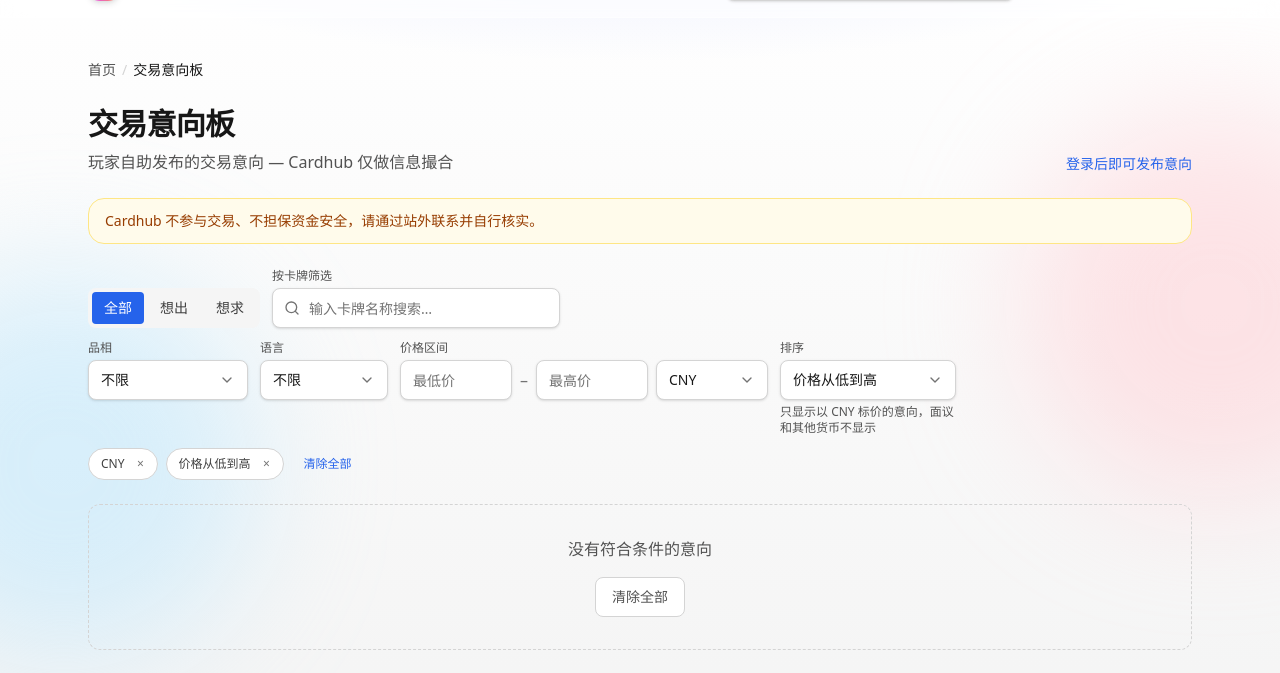
Test case: TradeListPage price filters › writes the default currency when a price range is committed without one in the URL
This screenshot has width=1280, height=673.
Step 1. Type "10" into the field labelled "最低价" → (456, 380), box left=400, top=360, right=512, bottom=400
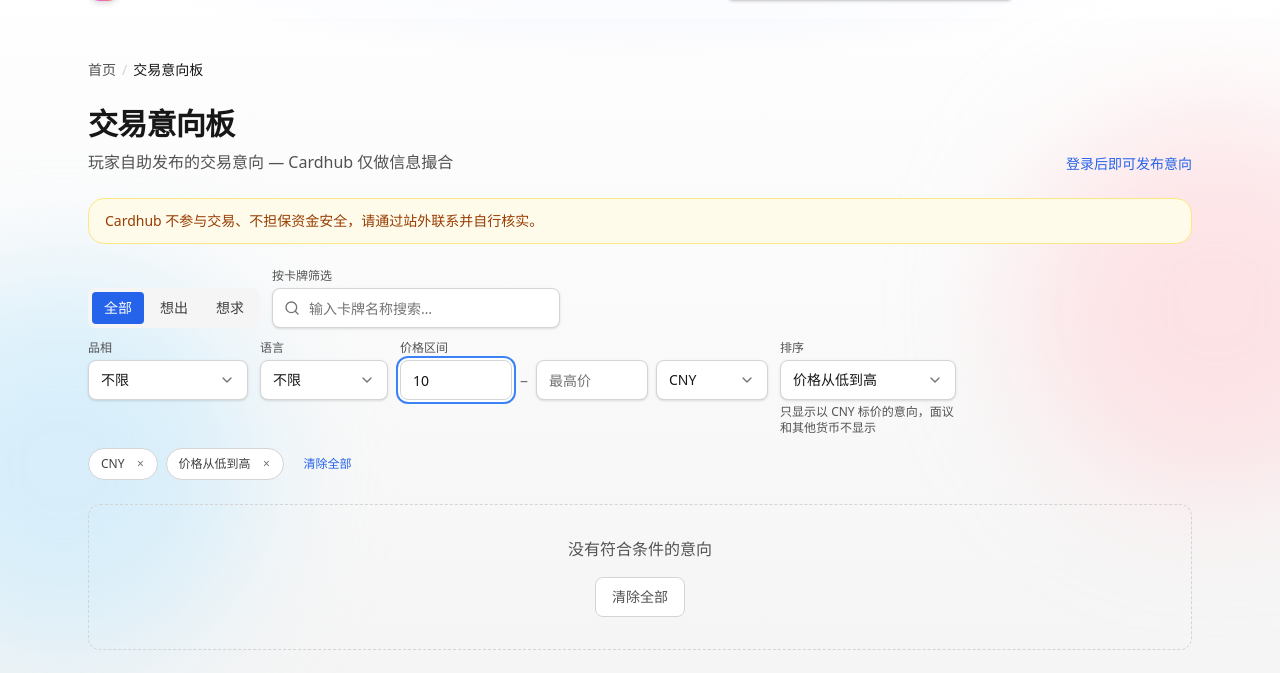
Step 2. Type "20" into the field labelled "最高价" → (592, 380), box left=536, top=360, right=648, bottom=400
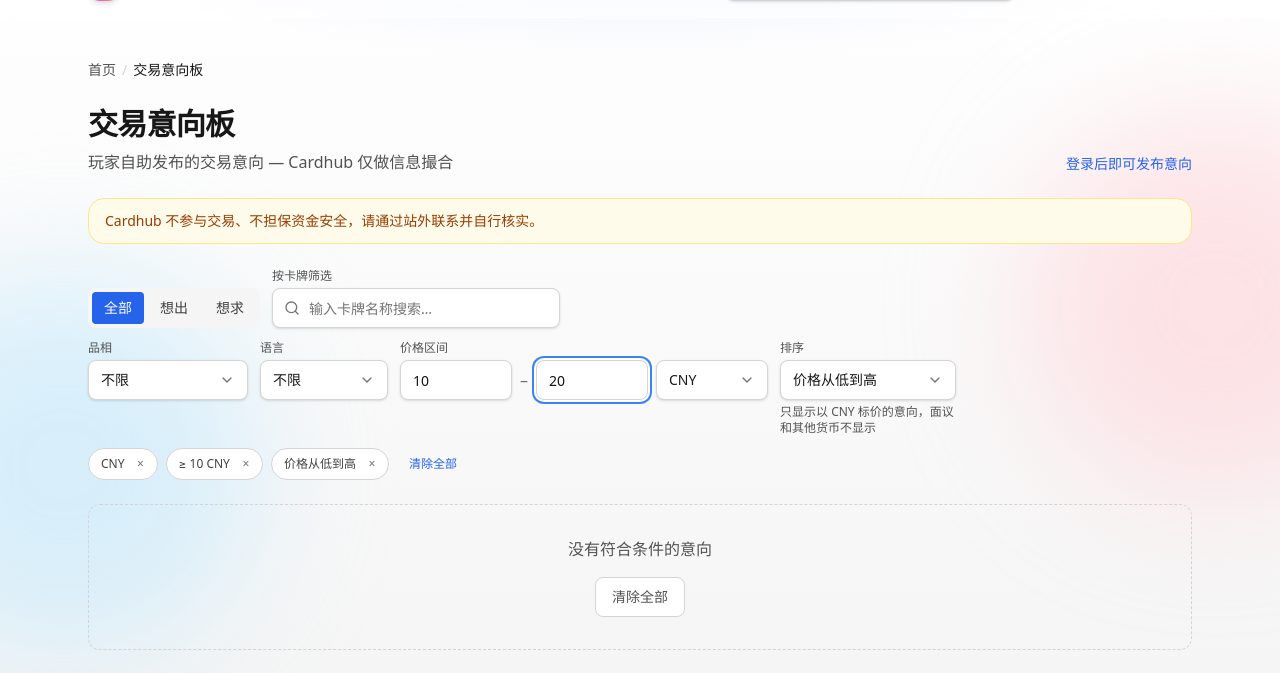
Step 3. Press Tab
(page scrolled)
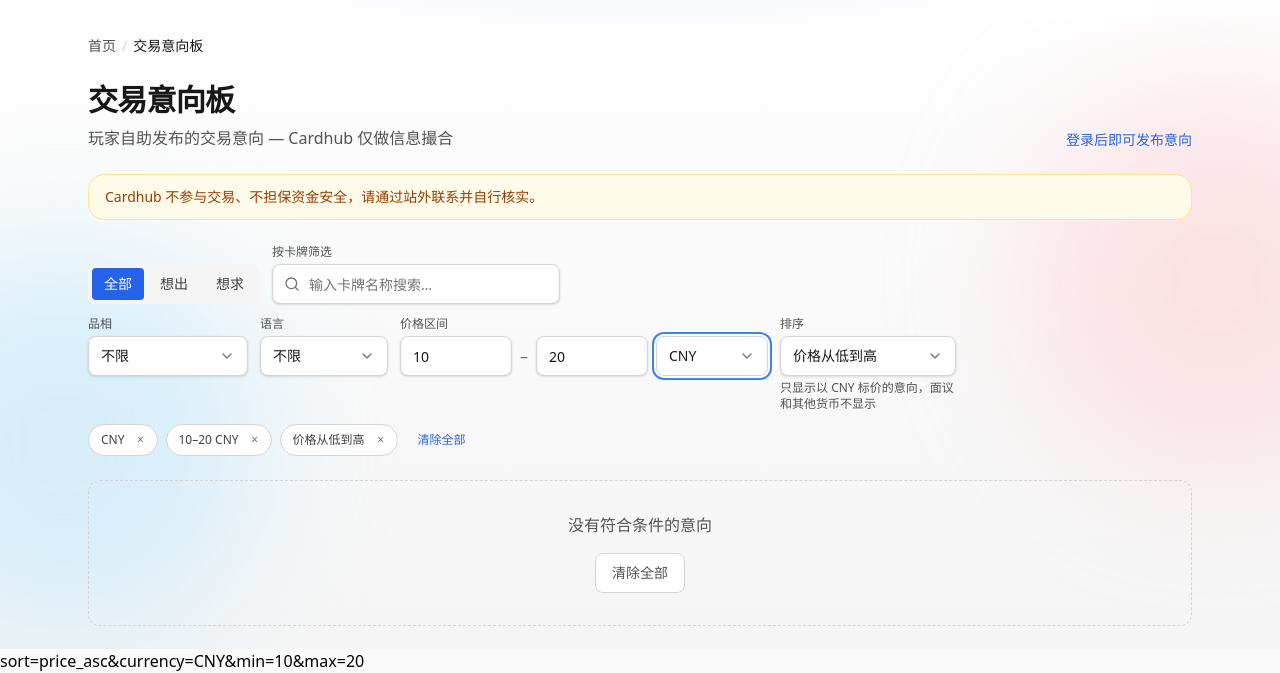
Expected: the text named "search" shows "currency=CNY", left=0, top=650, right=364, bottom=672
Expected: the text named "search" shows "min=10", left=0, top=650, right=364, bottom=672
Expected: the text named "search" shows "max=20", left=0, top=650, right=364, bottom=672
